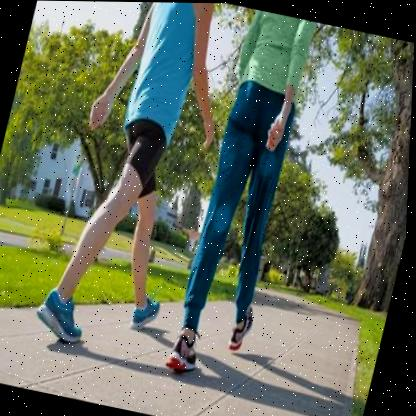person: (18, 1, 245, 366), (153, 6, 335, 393)
